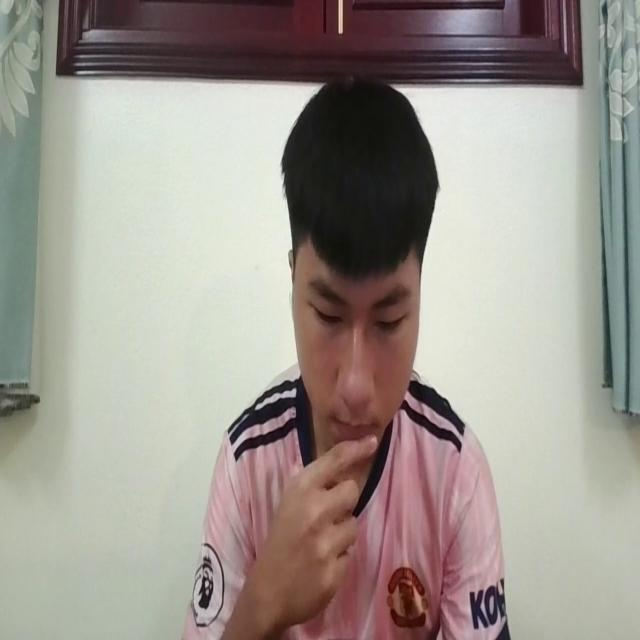student: (198, 66, 507, 640)
